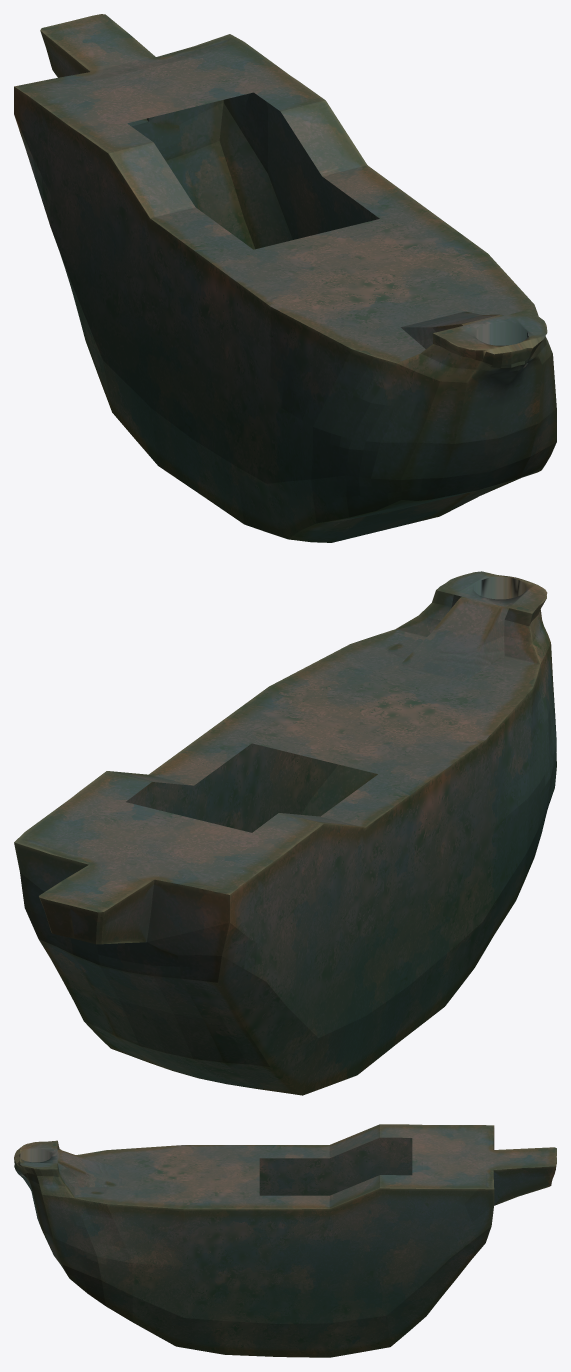
The model's file is Boat_Newest.fbx.
3 renders of one model, top to bottom at view 1: azimuth 30°, elevation 25°; view 2: azimuth 150°, elevation 25°; view 3: azimuth 270°, elevation 25°, orthographic. The views are drawn at different scales.
Visible parts, largest first — view 1: Boat_Base_Unwrapped_1; view 2: Boat_Base_Unwrapped_1; view 3: Boat_Base_Unwrapped_1.
Boxes of the visible parts, box(x1,y1,x2,y2) form: Boat_Base_Unwrapped_1: box(14, 14, 556, 542); Boat_Base_Unwrapped_1: box(14, 571, 556, 1095); Boat_Base_Unwrapped_1: box(14, 1124, 556, 1357).
Size of the model in its own units: 712 by 892 by 2544.
